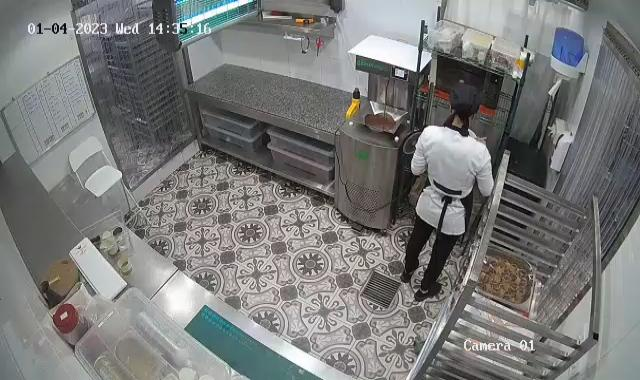no_hairnet: (449, 81, 481, 125)
